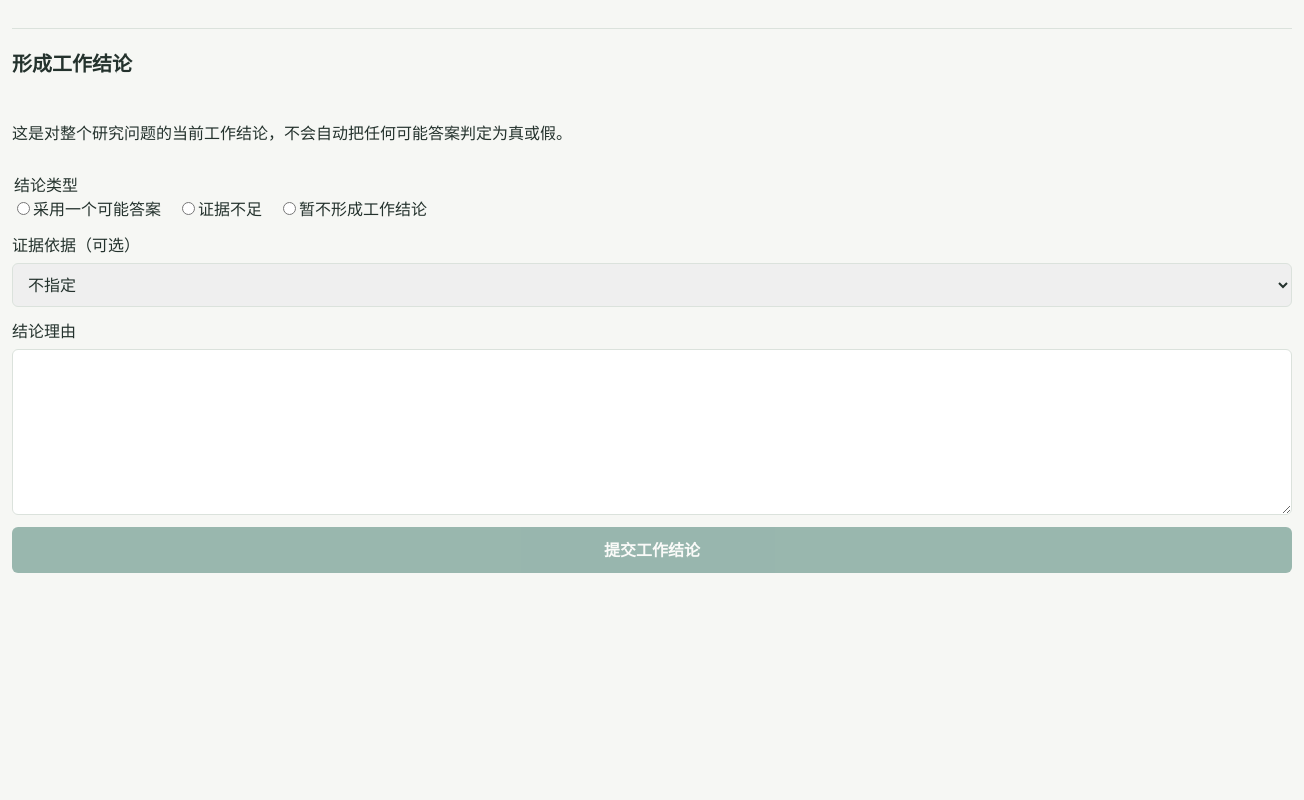
Test: Issue Resolution Composer › clears pending receipt on definite rejection 400 ISSUE_RESOLUTION_INVALID
The width and height of the screenshot is (1304, 800).
Expected: the heading "形成工作结论" is shown, [12,52,132,76]
Click the radio button labelled "采用一个可能答案" at (24, 208), box [17,202,30,215]
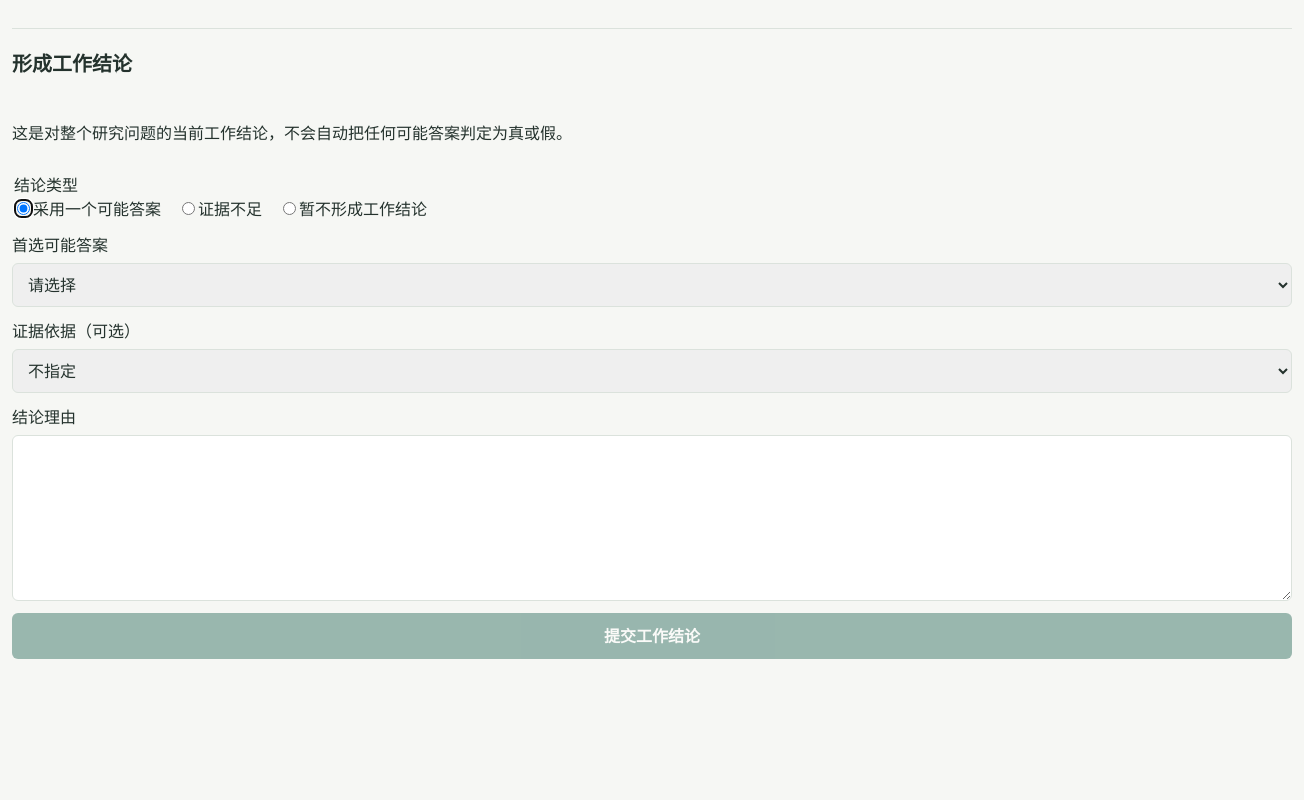
Select "可能答案 A" in the dropdown labelled "首选可能答案" at (652, 285), box [12,263,1292,307]
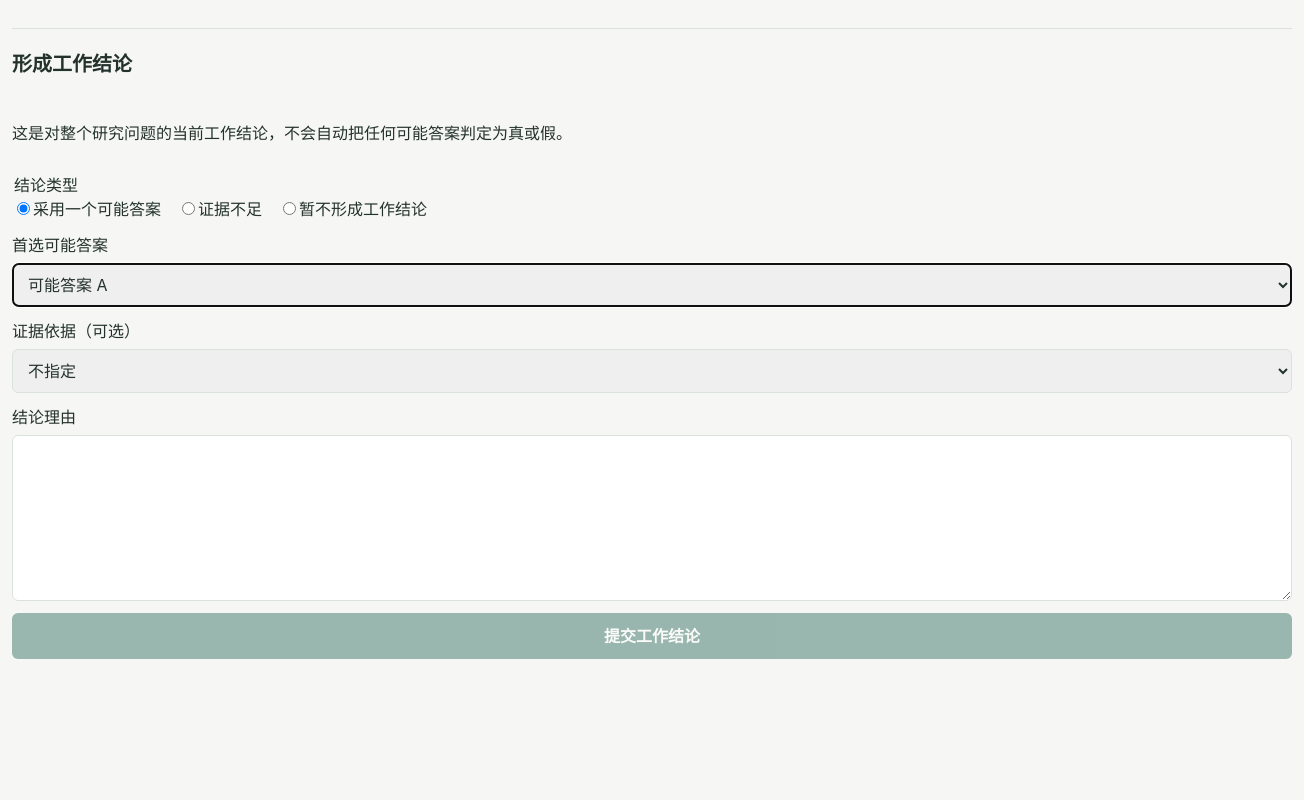
Type "现有证据最支持这个解释。" into the text box labelled "结论理由" at (652, 518), box [12,435,1292,601]
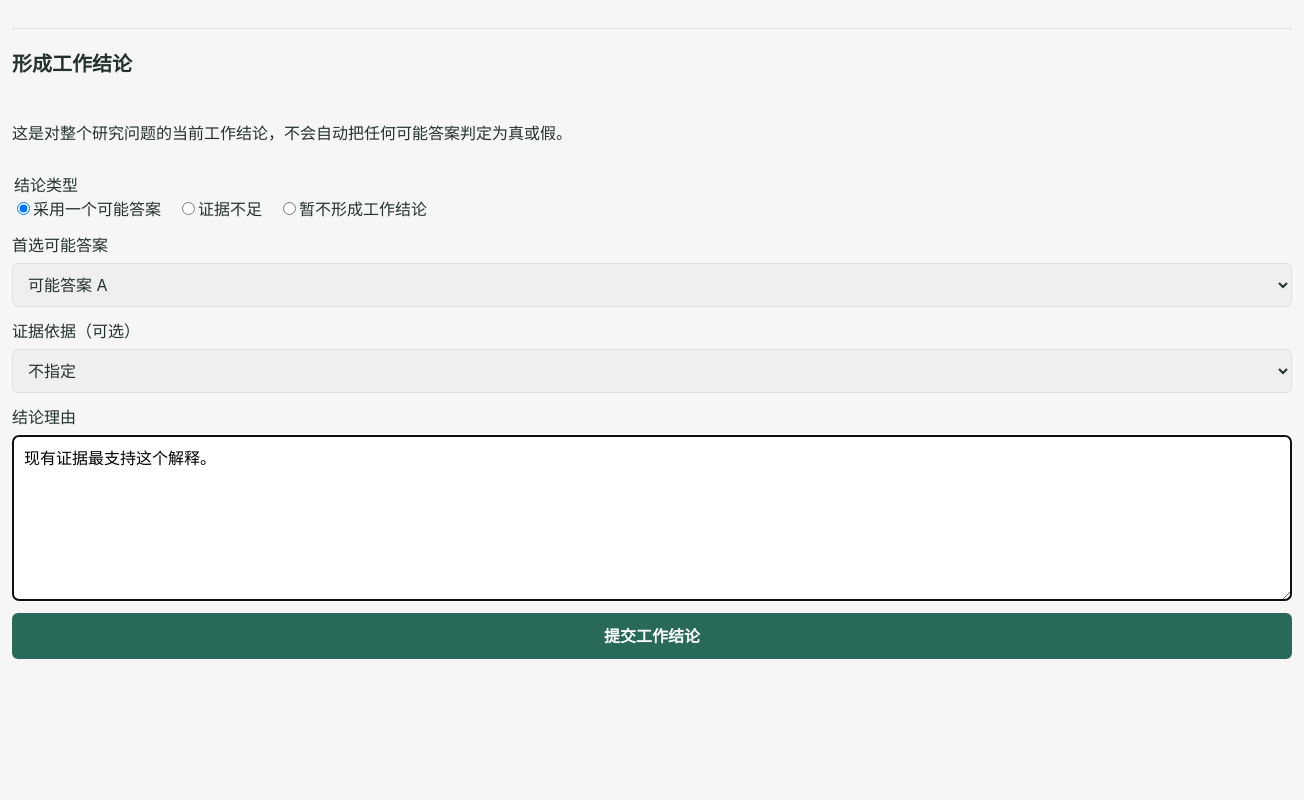
Click the button "提交工作结论" at (652, 636), box [12,613,1292,659]
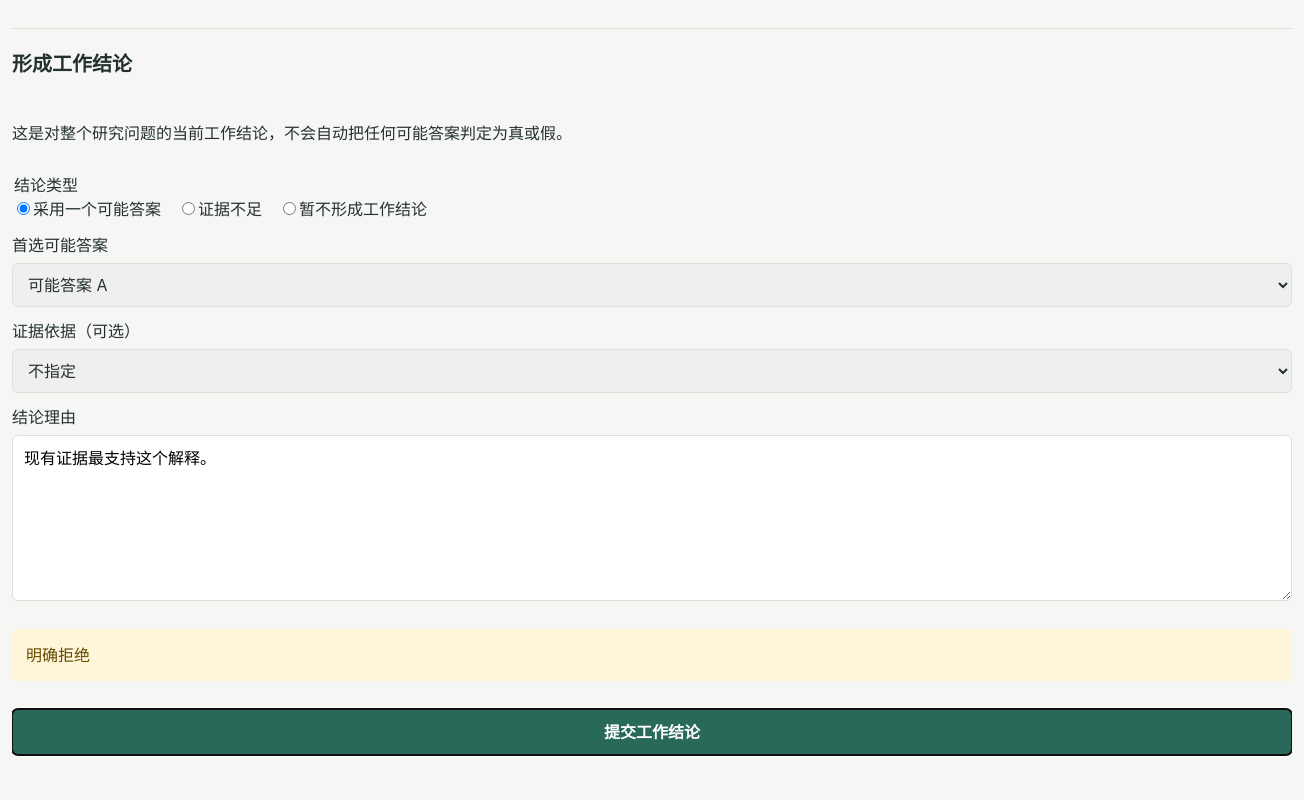
Result: the text "明确拒绝" is shown at [12,629,1292,681]
